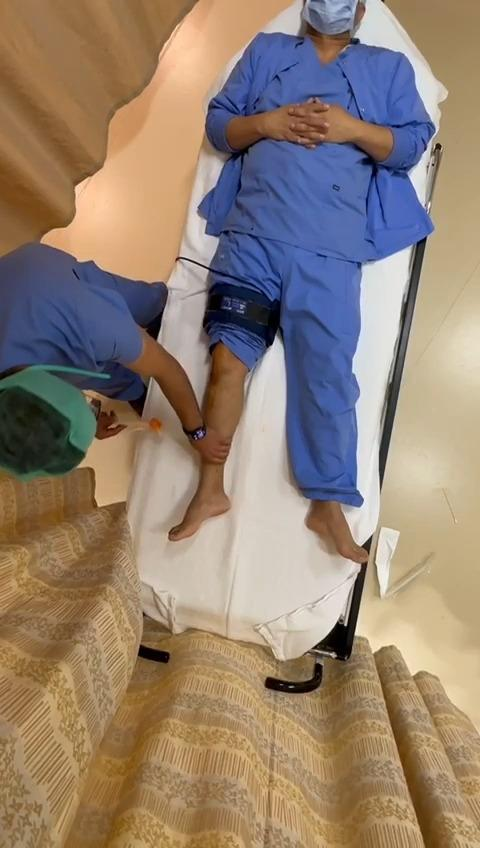bed: (104, 0, 444, 658)
patient: (169, 0, 434, 563)
prepstick: (118, 415, 162, 431)
tourniquet: (203, 281, 280, 343)
